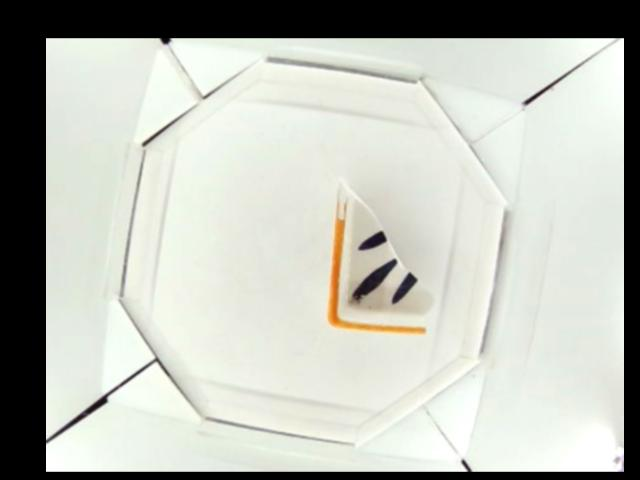China: (326, 180, 438, 334)
